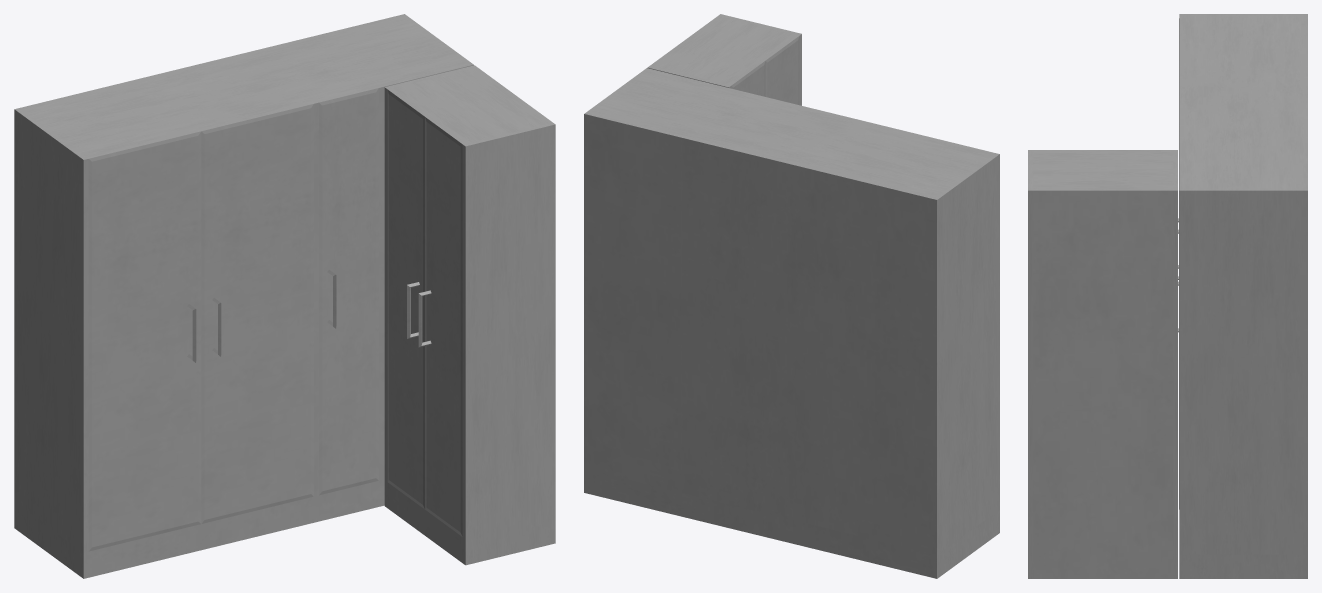
File: storage cabs.fbx
The picture shows the model from 3 angles, left to right: view 1: azimuth 30°, elevation 25°; view 2: azimuth 150°, elevation 25°; view 3: azimuth 270°, elevation 25°; orthographic projection. The views are drawn at different scales.
Parts seen in each view (by area): view 1: Cube, Cube.003, Cube.001, Cube.004, Cube.005, Cube.006, Cube.007, Cube.008; view 2: Cube, Cube.008, Cube.003, Cube.006, Cube.007; view 3: Cube, Cube.003, Cube.008, Cube.005.
Boxes of the visible parts, x1,y1,x2,y2 form: Cube: [14, 14, 473, 552]; Cube.003: [384, 65, 555, 565]; Cube.001: [88, 131, 201, 551]; Cube.004: [201, 103, 313, 523]; Cube.005: [318, 88, 378, 495]; Cube.006: [425, 117, 462, 536]; Cube.007: [387, 90, 424, 509]; Cube.008: [14, 479, 384, 578]; Cube: [584, 68, 999, 554]; Cube.008: [584, 469, 999, 578]; Cube.003: [647, 14, 801, 105]; Cube.006: [765, 36, 799, 104]; Cube.007: [731, 61, 765, 96]; Cube: [1179, 14, 1307, 554]; Cube.003: [1028, 150, 1177, 578]; Cube.008: [1179, 554, 1307, 578]; Cube.005: [1179, 120, 1181, 509].
Size of the model in its own units: 198 by 203 by 133.
